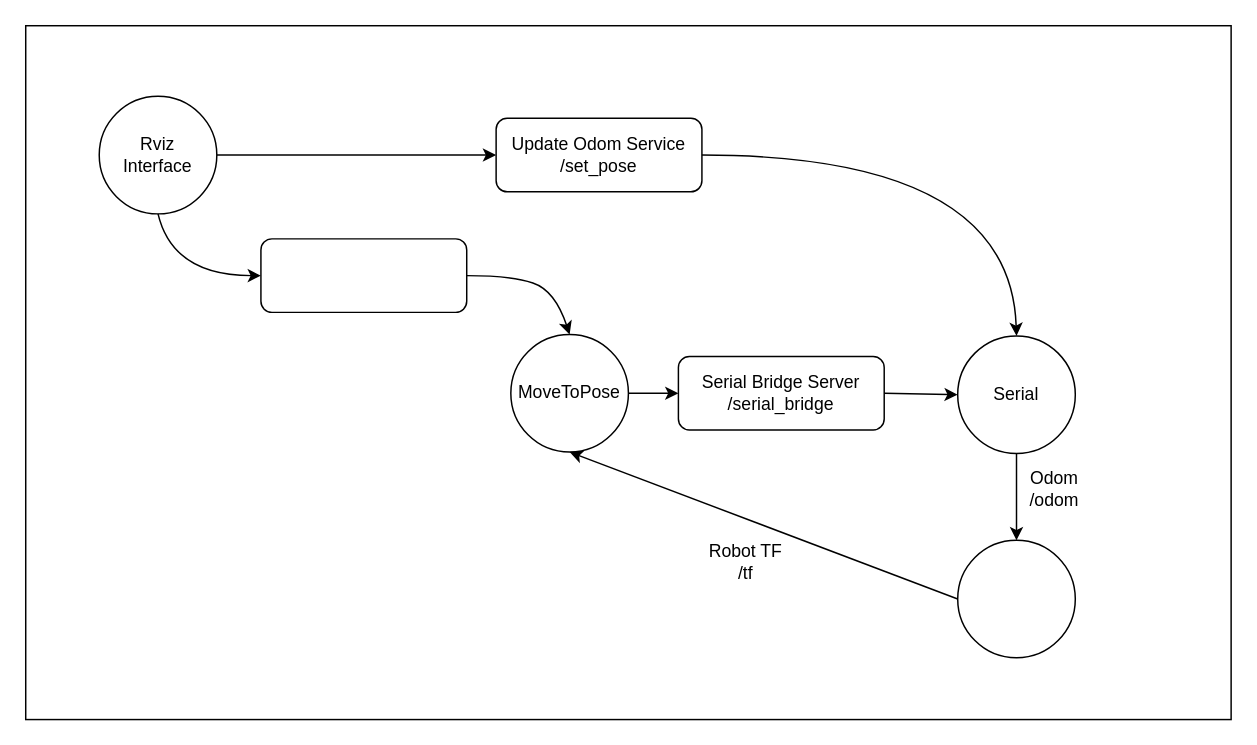
This 1257x745 diagram has some shape labels left out. Each missing label, with the centre of its shape:
Move To Pose Server /move_server: point (363, 274)
Robot TF: point (1015, 598)
